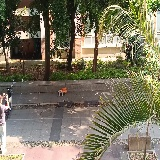fire: (60, 87, 67, 93)
